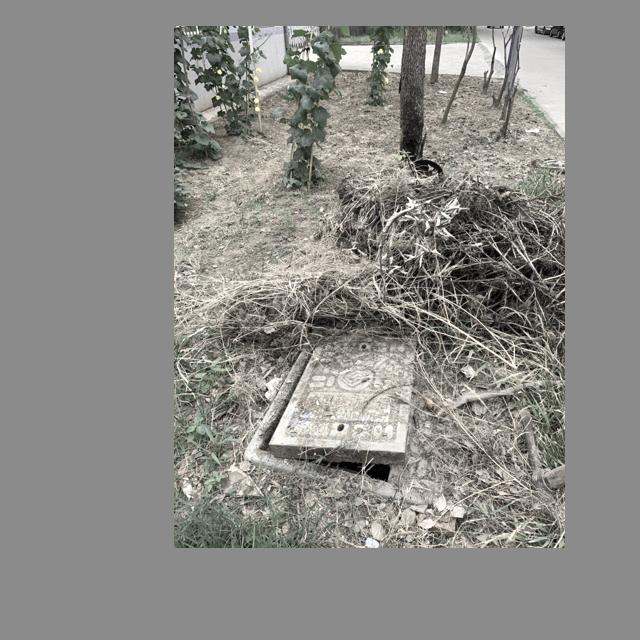uncovered: (253, 309, 460, 499)
